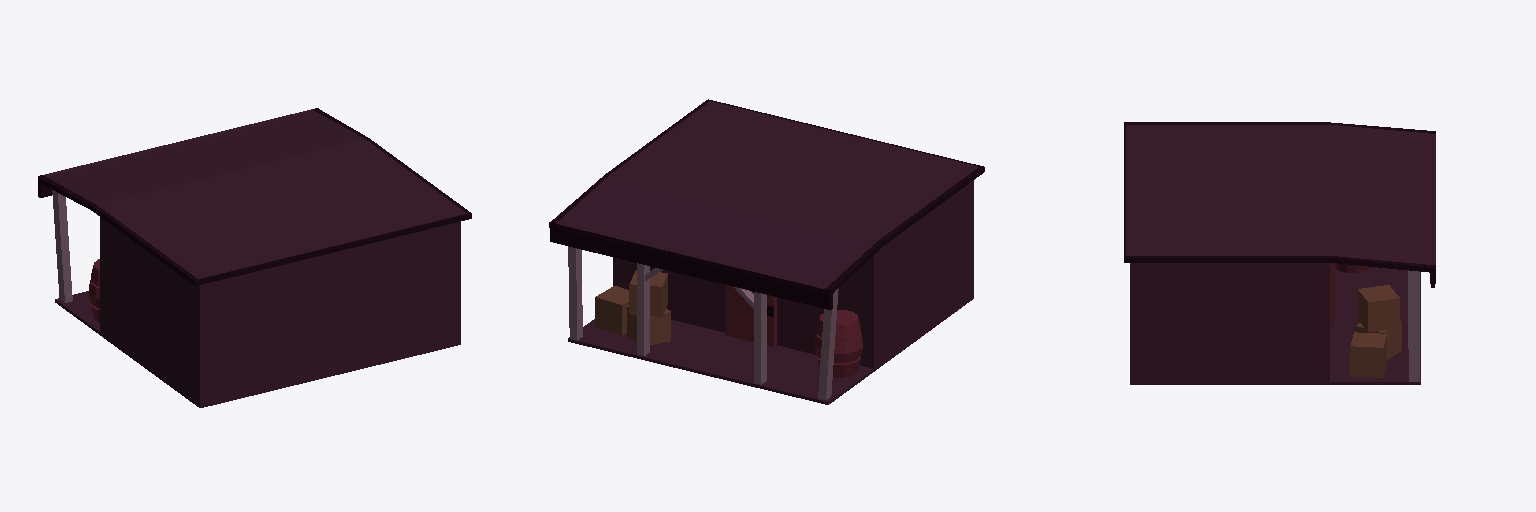
3 views of the same model, side by side, from view 1: azimuth 30°, elevation 25°; view 2: azimuth 150°, elevation 25°; view 3: azimuth 270°, elevation 25° (orthographic).
Parts seen in each view (by area): view 1: building, beams, barrel; view 2: building, beams, crates, barrel, front door; view 3: building, crates, beams.
Boxes of the visible parts, x1,y1,x2,y2 form: building: [38, 108, 471, 407]; beams: [52, 190, 72, 302]; barrel: [89, 259, 99, 322]; building: [549, 99, 984, 404]; beams: [568, 246, 838, 399]; crates: [595, 270, 670, 344]; barrel: [815, 310, 862, 377]; front door: [726, 285, 776, 346]; building: [1124, 122, 1435, 384]; crates: [1350, 285, 1401, 377]; beams: [1408, 270, 1419, 381].
Bounding box in the file's own units: 1.83 × 0.8188 × 1.76.
Materials: 1 (1 with a texture image).